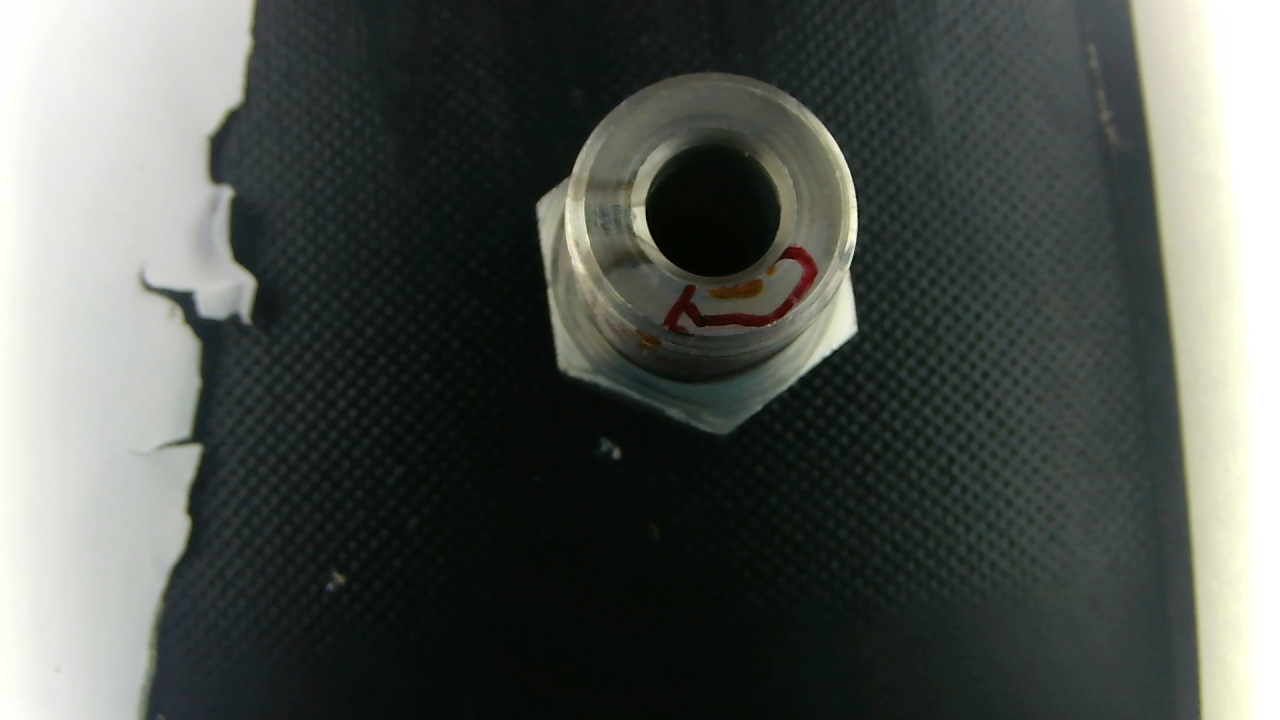blackpatch: (573, 168, 650, 208)
